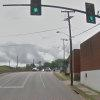Traffic light: (24, 0, 61, 25)
